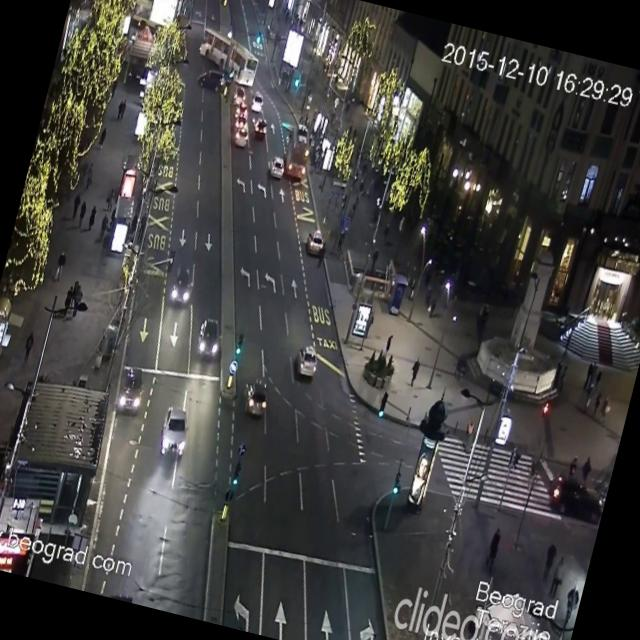bus: (192, 26, 264, 88), (280, 123, 312, 179)
car: (538, 471, 607, 526), (154, 404, 193, 459), (112, 363, 149, 417), (192, 316, 225, 360), (168, 262, 198, 307), (239, 378, 271, 419), (292, 342, 322, 382), (196, 66, 227, 93), (302, 228, 328, 258), (232, 124, 251, 150), (268, 155, 284, 179), (230, 103, 248, 120), (232, 86, 247, 102), (254, 117, 268, 134), (252, 92, 264, 109)
